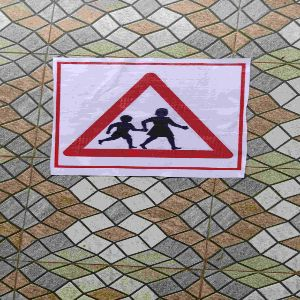schools: (58, 67, 240, 172)
